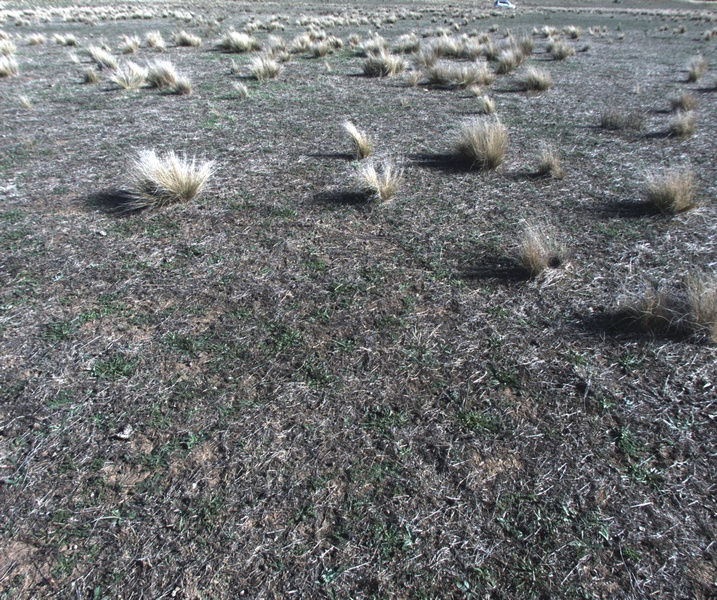st: (120, 149, 212, 204), (649, 267, 717, 334), (506, 217, 568, 277), (638, 164, 696, 215), (455, 112, 507, 164), (345, 162, 399, 204), (327, 118, 374, 161), (426, 63, 496, 91), (528, 141, 564, 179), (671, 111, 707, 141), (120, 57, 149, 92), (250, 52, 284, 81), (145, 57, 177, 87), (666, 88, 696, 117), (219, 77, 250, 100), (169, 79, 194, 98)
